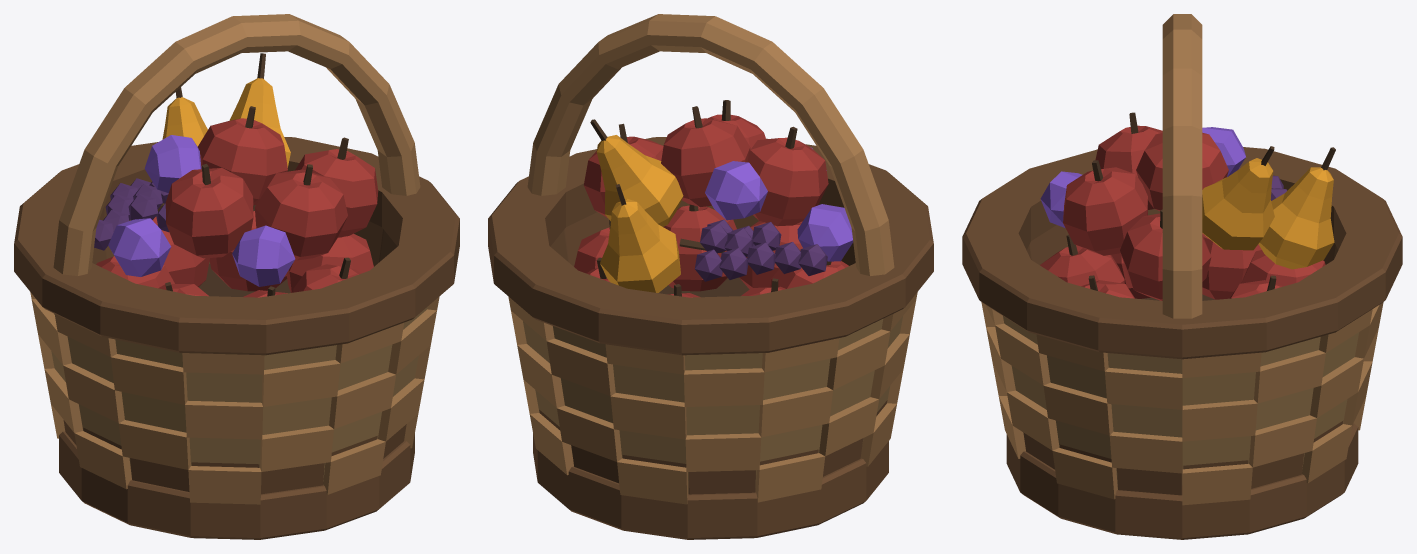
Rendered from fruit-basket.glb.
The picture shows the model from 3 angles, left to right: view 1: azimuth 30°, elevation 25°; view 2: azimuth 150°, elevation 25°; view 3: azimuth 270°, elevation 25°; orthographic projection. The views are drawn at different scales.
Parts seen in each view (by area): view 1: mdvl_farm_fruit_basket_01_0; view 2: mdvl_farm_fruit_basket_01_0; view 3: mdvl_farm_fruit_basket_01_0.
Boxes of the visible parts, bbox=[...] form: mdvl_farm_fruit_basket_01_0: bbox=[14, 14, 459, 539]; mdvl_farm_fruit_basket_01_0: bbox=[488, 14, 933, 539]; mdvl_farm_fruit_basket_01_0: bbox=[962, 14, 1402, 539].
Size of the model in its own units: 0.486 by 0.533 by 0.486.
Materials: 1 (1 with a texture image).
